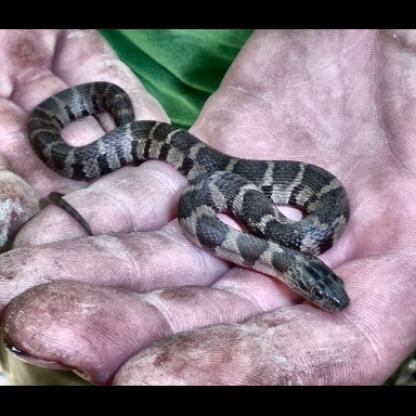Snake: (20, 97, 356, 319)
